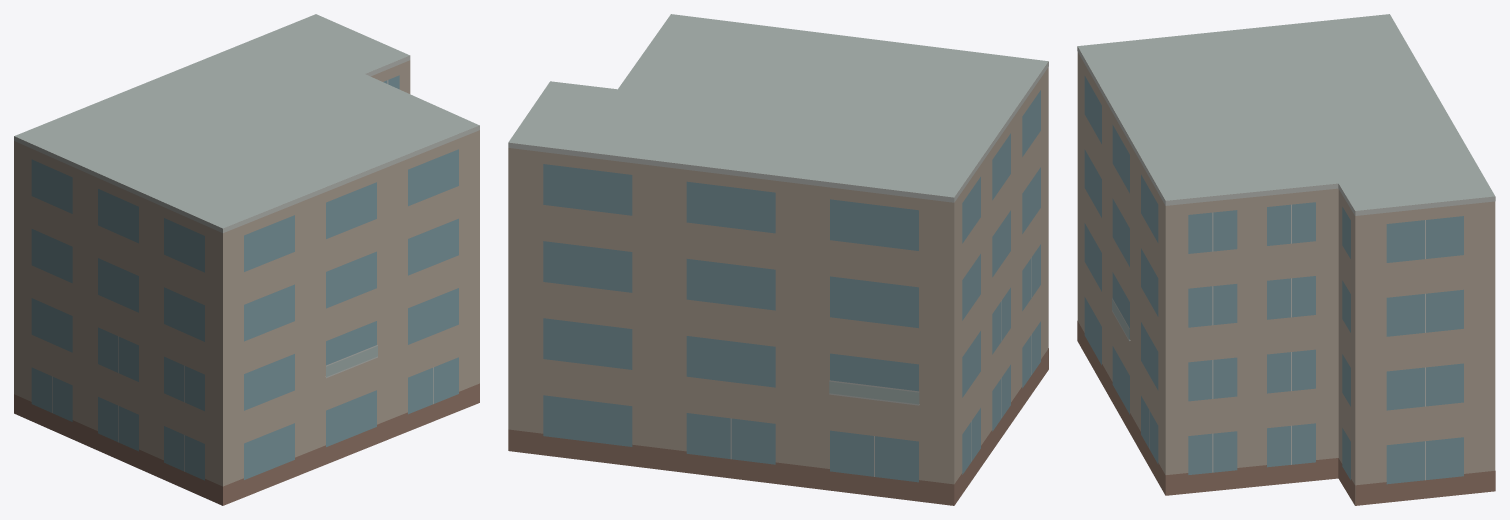
Rendered from survey-upis-32716360.glb.
3 renders of one model, left to right at view 1: azimuth 30°, elevation 25°; view 2: azimuth 150°, elevation 25°; view 3: azimuth 270°, elevation 25°, orthographic. The views are drawn at different scales.
Visible parts, largest first — view 1: survey-upis-32716360.tmp; view 2: survey-upis-32716360.tmp; view 3: survey-upis-32716360.tmp.
Part boxes in pixels (bbox=[...]): survey-upis-32716360.tmp: bbox=[14, 14, 479, 505]; survey-upis-32716360.tmp: bbox=[508, 14, 1048, 505]; survey-upis-32716360.tmp: bbox=[1077, 14, 1495, 505].
Bounding box in the file's own units: 20.65 × 14.4 × 18.51.
